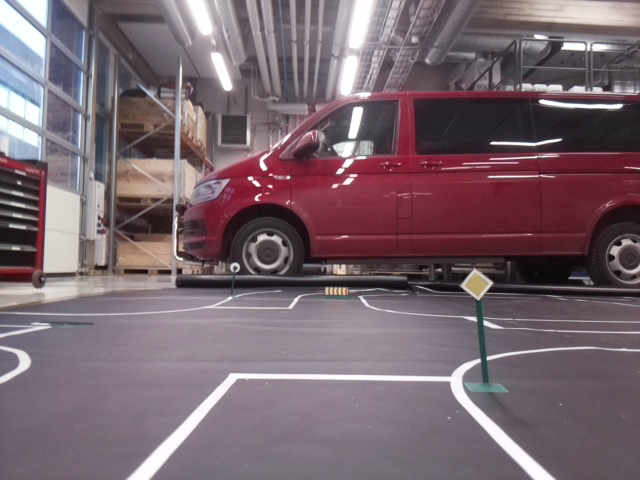Priority: (458, 268, 492, 298)
